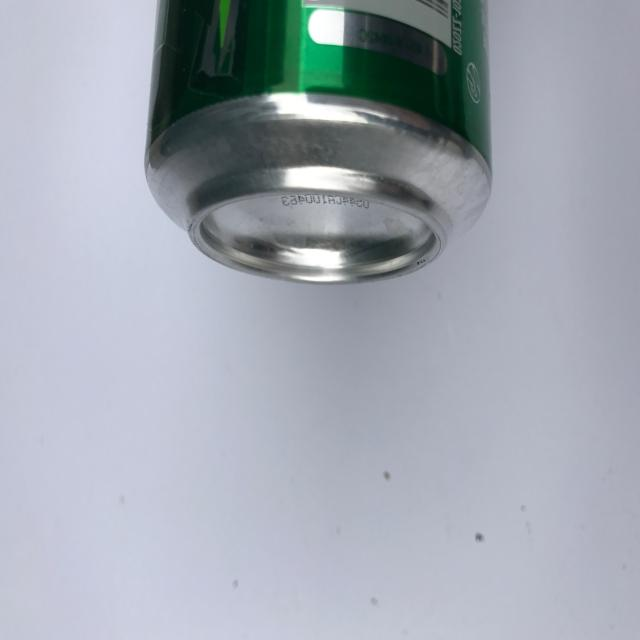metal: (143, 0, 494, 285)
